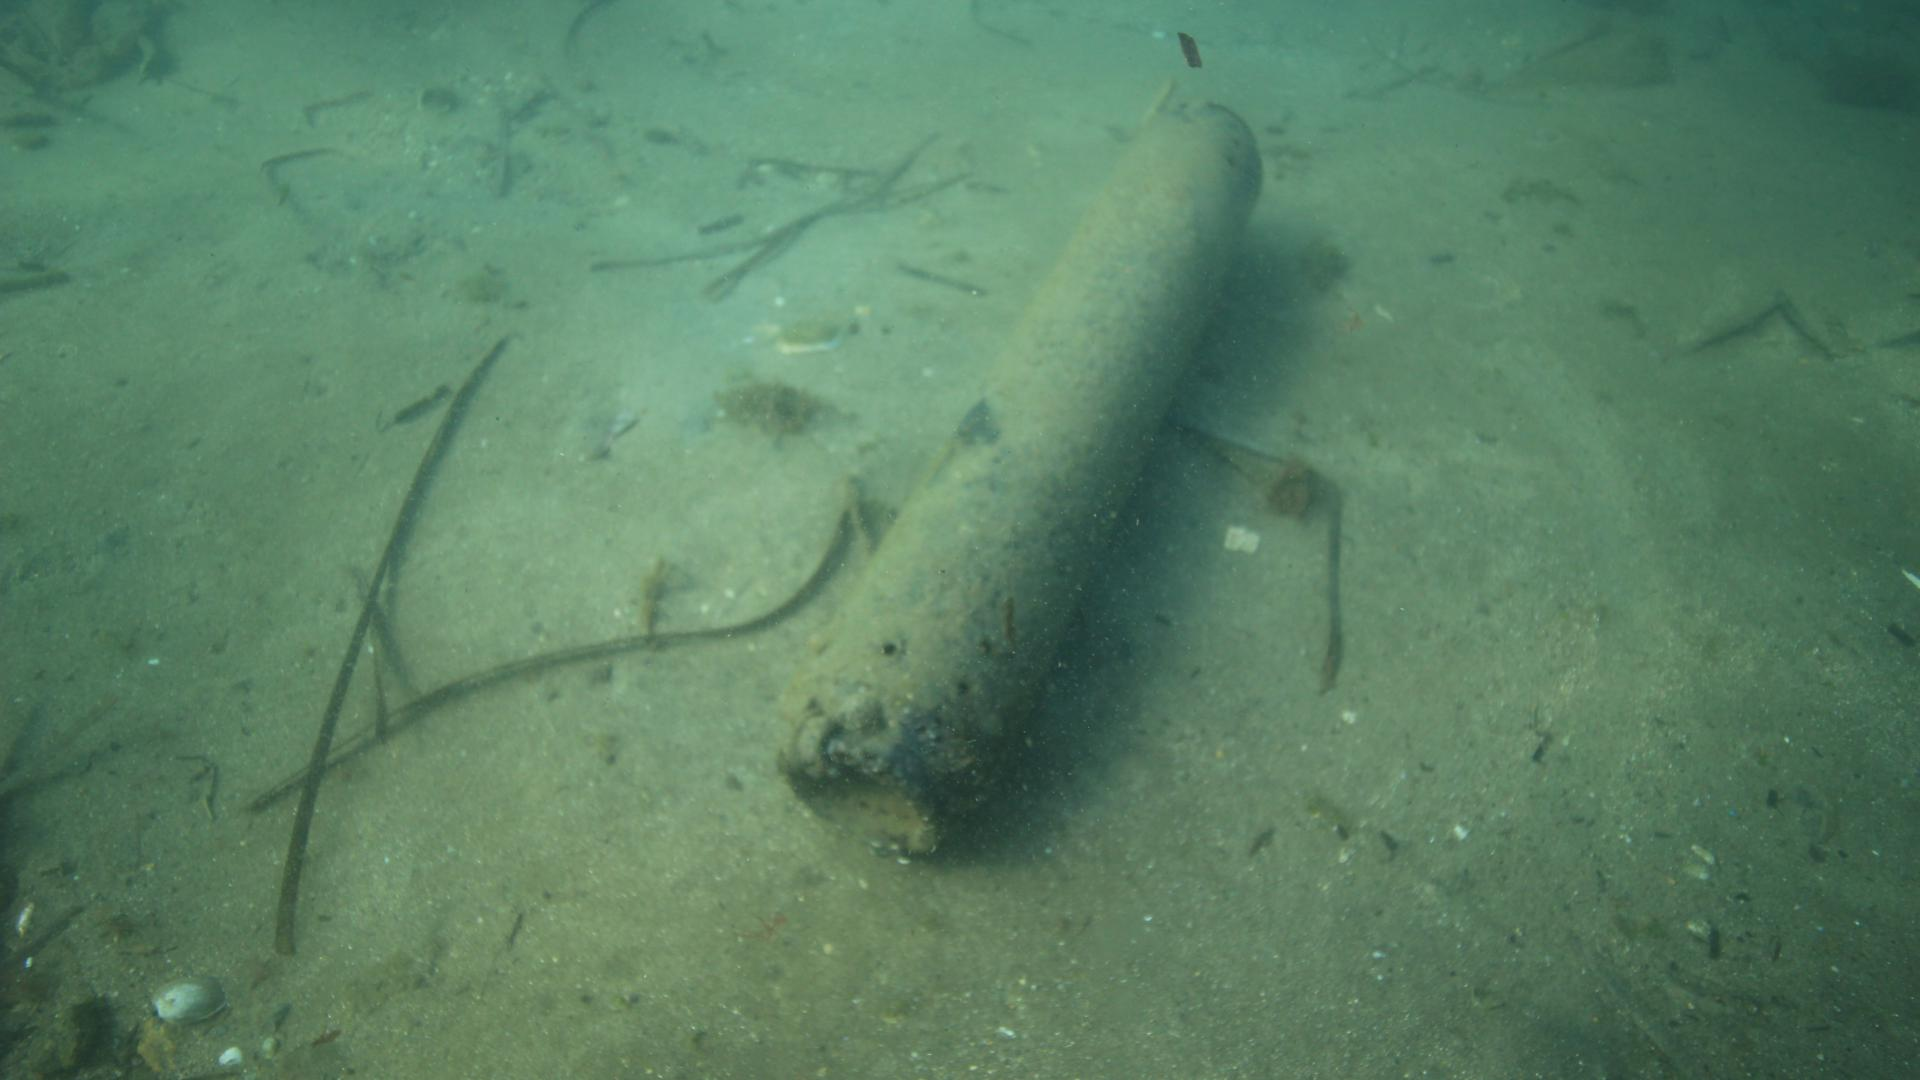eel fish trap: (774, 98, 1262, 858)
